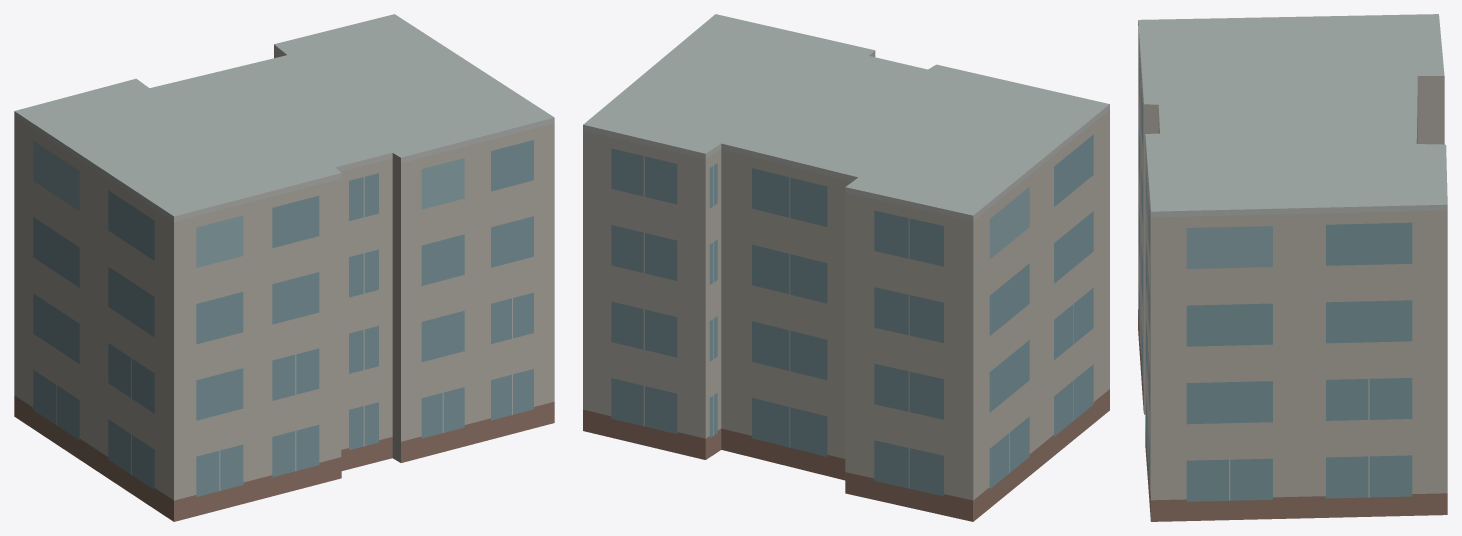
The model's file is survey-upis-32727693.glb.
3 renders of one model, left to right at view 1: azimuth 30°, elevation 25°; view 2: azimuth 150°, elevation 25°; view 3: azimuth 270°, elevation 25°, orthographic.
Parts seen in each view (by area): view 1: survey-upis-32727693.tmp; view 2: survey-upis-32727693.tmp; view 3: survey-upis-32727693.tmp.
Part boxes in pixels (x1,y1,x2,y2): survey-upis-32727693.tmp: [14, 14, 554, 521]; survey-upis-32727693.tmp: [583, 14, 1109, 521]; survey-upis-32727693.tmp: [1138, 14, 1447, 521].
Bounding box in the file's own units: 17.98 × 13.15 × 11.9.
